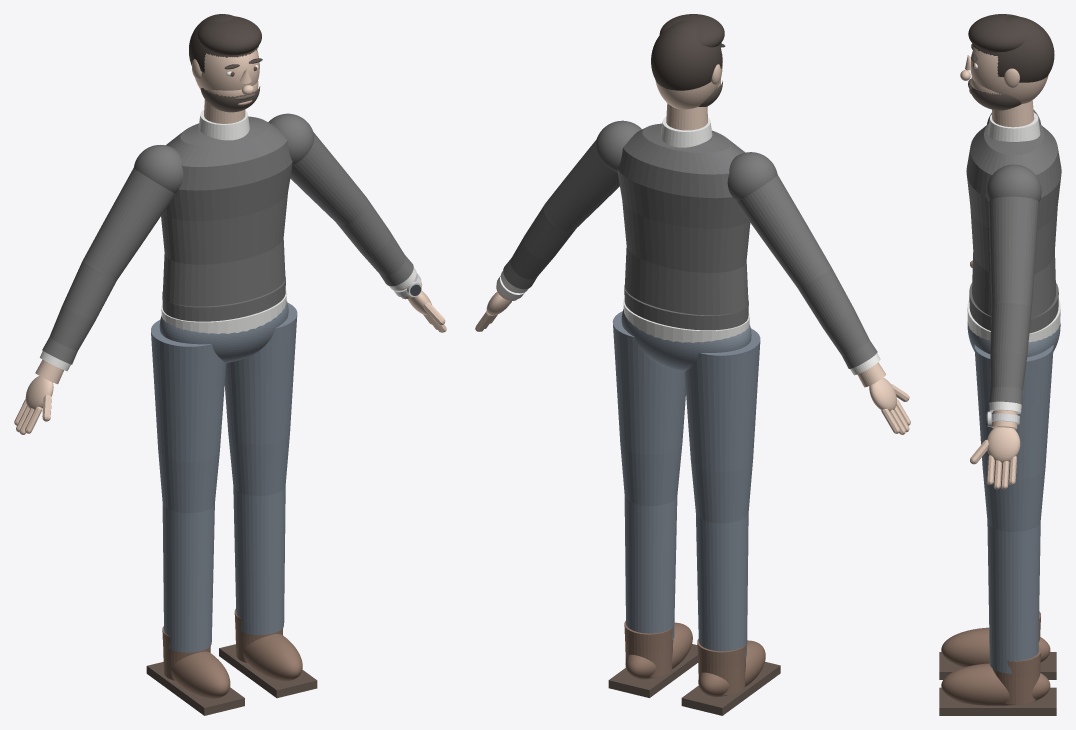
File: karakter_model.glb
The picture shows the model from 3 angles, left to right: view 1: azimuth 30°, elevation 25°; view 2: azimuth 150°, elevation 25°; view 3: azimuth 270°, elevation 25°; orthographic projection.
Parts seen in each view (by area): view 1: Sweater_Torso, Trouser_R, Trouser_L, UpperArm_R, UpperArm_L, Forearm_R, Forearm_L, Pelvis, BootFoot_R, BootFoot_L, Sweater_Hem, HairTop (+9 smaller); view 2: Sweater_Torso, Trouser_R, Trouser_L, UpperArm_R, Hair, Forearm_R, UpperArm_L, Forearm_L, Pelvis, Sweater_Hem, Shoulder_R, Sole_R (+11 smaller); view 3: Trouser_L, Sweater_Torso, UpperArm_L, Forearm_L, Hair, BootFoot_L, Sole_L, BootFoot_R, HairTop, Head, Shoulder_L, BootShaft_L (+15 smaller).
Boxes of the visible parts, <box> form: Sweater_Torso: <box>161,116,292,306</box>; Trouser_R: <box>151,320,226,652</box>; Trouser_L: <box>224,303,297,634</box>; UpperArm_R: <box>83,168,175,279</box>; UpperArm_L: <box>290,132,366,224</box>; Forearm_R: <box>42,263,116,364</box>; Forearm_L: <box>336,199,413,286</box>; Pelvis: <box>159,301,288,362</box>; BootFoot_R: <box>171,651,230,698</box>; BootFoot_L: <box>243,634,302,681</box>; Sweater_Hem: <box>162,276,285,321</box>; HairTop: <box>197,16,261,55</box>; Sweater_Torso: <box>617,123,750,315</box>; Trouser_R: <box>684,328,760,657</box>; Trouser_L: <box>612,311,685,639</box>; UpperArm_R: <box>736,175,830,287</box>; Hair: <box>651,20,722,90</box>; Forearm_R: <box>798,269,877,368</box>; UpperArm_L: <box>544,139,619,231</box>; Forearm_L: <box>503,206,576,289</box>; Pelvis: <box>621,309,751,371</box>; Sweater_Hem: <box>624,284,748,330</box>; Shoulder_R: <box>727,152,777,201</box>; Sole_R: <box>681,661,780,715</box>; Trouser_L: <box>974,345,1053,673</box>; Sweater_Torso: <box>966,123,1061,318</box>; UpperArm_L: <box>988,196,1039,305</box>; Forearm_L: <box>989,303,1031,405</box>; Hair: <box>973,16,1054,82</box>; BootFoot_L: <box>941,663,1050,705</box>; Sole_L: <box>939,687,1056,715</box>; BootFoot_R: <box>941,627,1050,667</box>; HairTop: <box>968,14,1025,52</box>; Head: <box>970,47,1048,103</box>; Shoulder_L: <box>986,164,1041,202</box>; BootShaft_L: <box>992,647,1040,704</box>.
Size of the model in its own units: 1.23 by 1.83 by 0.3028.
